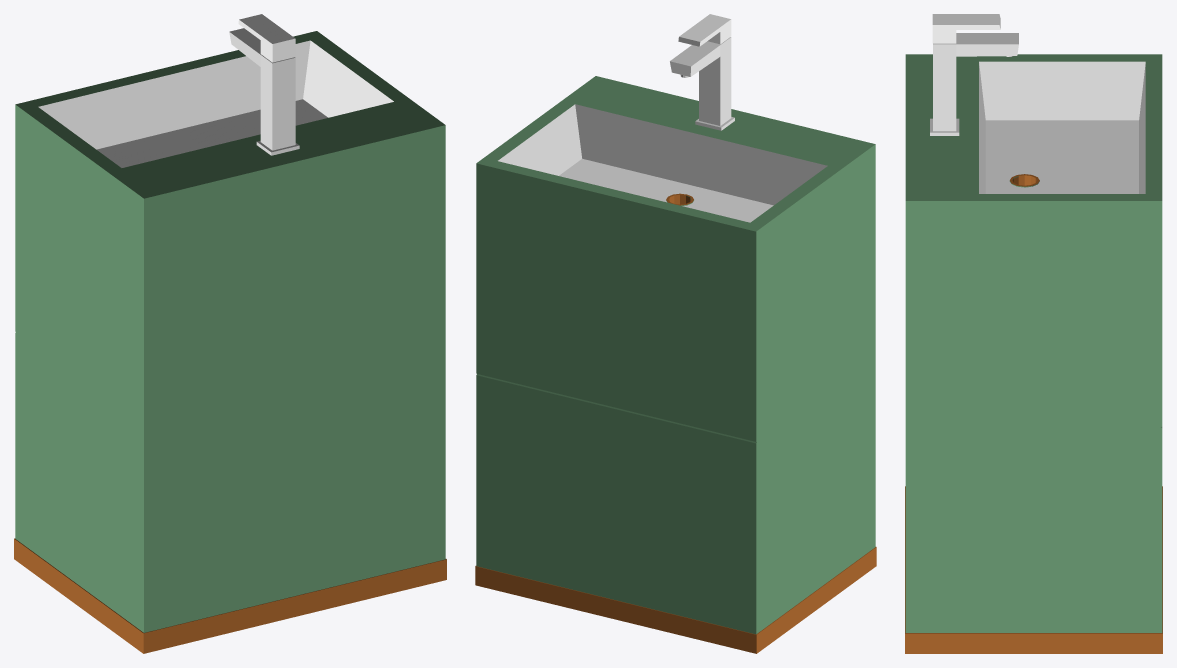
The model's file is Washing Sink.fbx.
The picture shows the model from 3 angles, left to right: view 1: azimuth 30°, elevation 25°; view 2: azimuth 150°, elevation 25°; view 3: azimuth 270°, elevation 25°; orthographic projection. The views are drawn at different scales.
Parts seen in each view (by area): view 1: Node 0, Node 1; view 2: Node 0, Node 1; view 3: Node 0, Node 1.
Boxes of the visible parts, <box> form: Node 0: <box>14,28,446,653</box>; Node 1: <box>238,14,295,62</box>; Node 0: <box>475,37,876,653</box>; Node 1: <box>678,14,731,46</box>; Node 0: <box>905,33,1162,653</box>; Node 1: <box>932,14,1000,43</box>.
Size of the model in its own units: 0.6592 by 1.59 by 0.8914.
